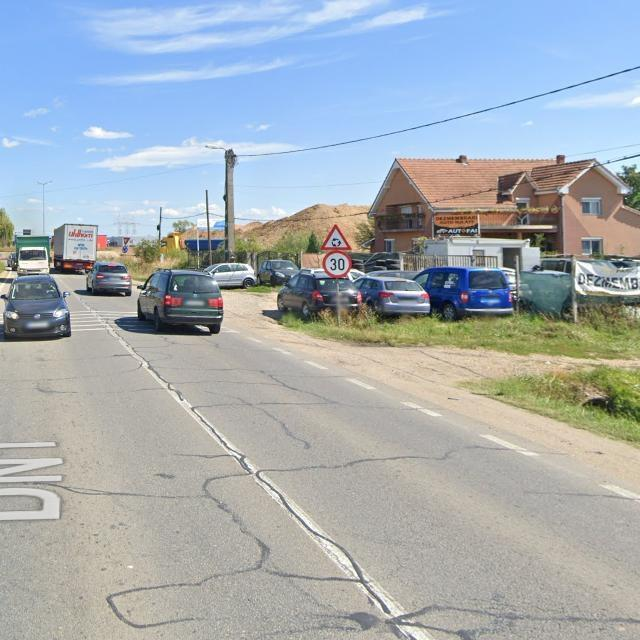forb_speed_over_30: (322, 251, 351, 278)
